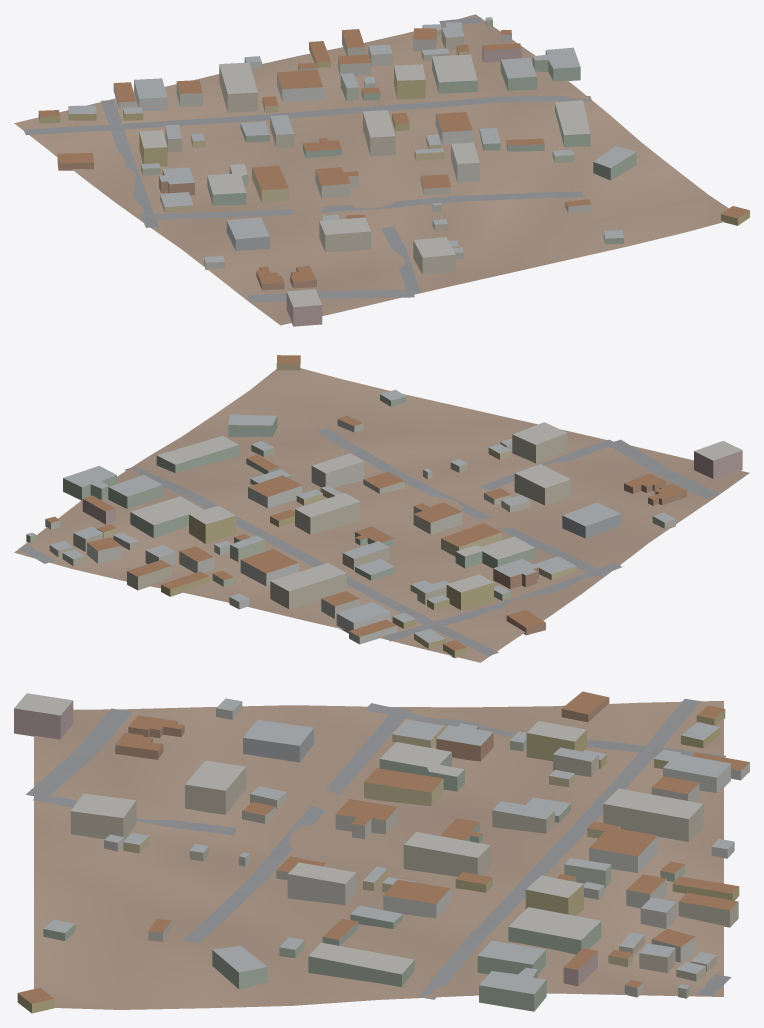
3 renders of one model, top to bottom at view 1: azimuth 30°, elevation 25°; view 2: azimuth 150°, elevation 25°; view 3: azimuth 270°, elevation 25°, orthographic. The views are drawn at different scales.
Visible parts, largest first — view 1: Lo; view 2: Lo; view 3: Lo.
Part boxes in pixels (left/top/right/bottom): Lo: left=14, top=14, right=749, bottom=326; Lo: left=14, top=355, right=749, bottom=662; Lo: left=14, top=691, right=749, bottom=1013.
Bounding box in the file's own units: 275 × 16.94 × 273.
